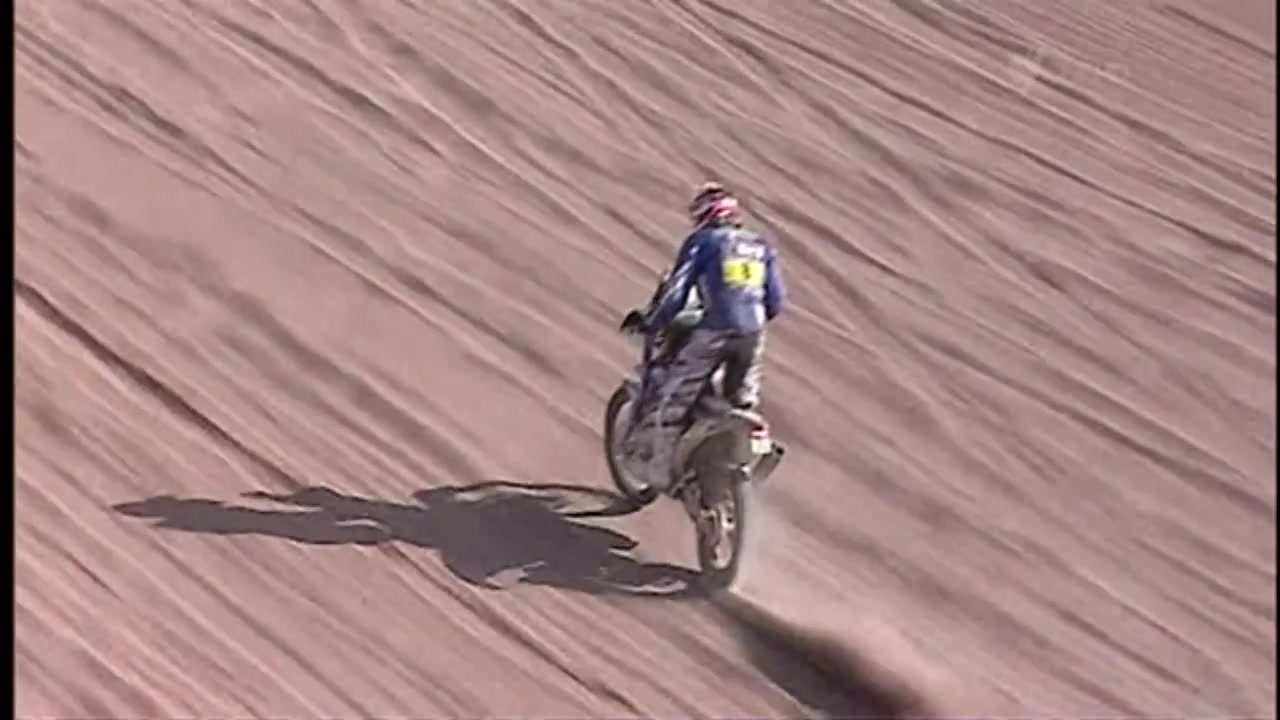motorbike: (602, 272, 785, 600)
